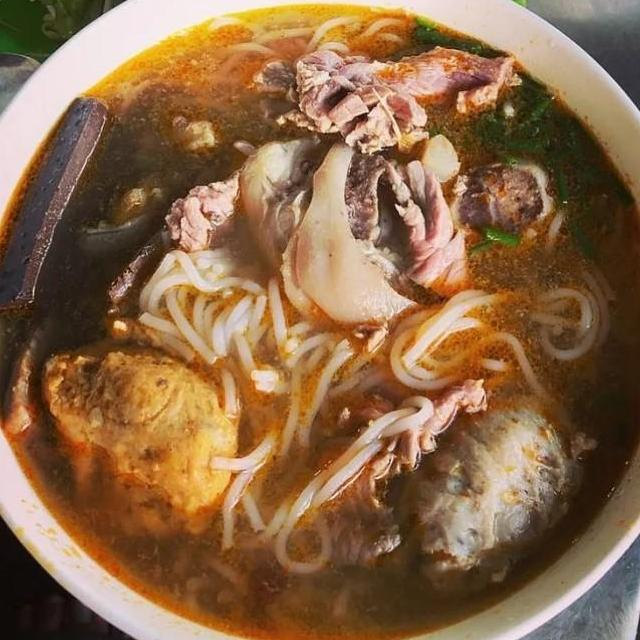bun: (124, 237, 624, 579)
bun bo: (0, 0, 640, 640)
thit bo: (310, 368, 498, 575), (245, 38, 530, 162), (90, 160, 254, 313), (372, 148, 484, 307)
